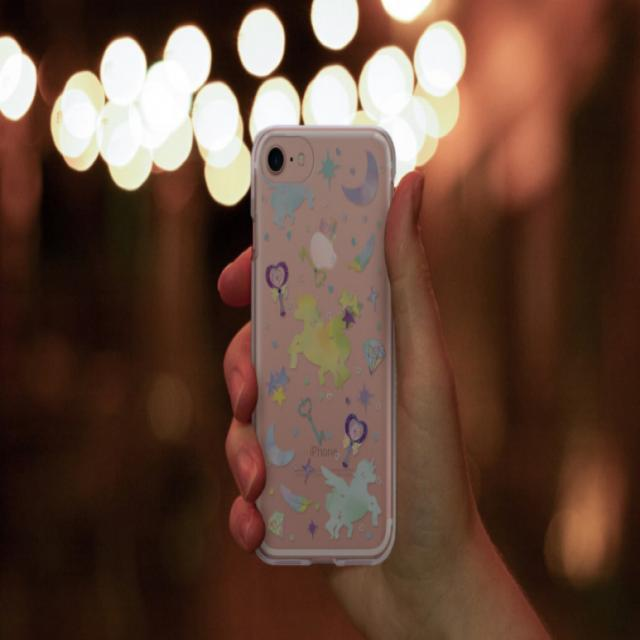phone: (250, 126, 397, 566)
